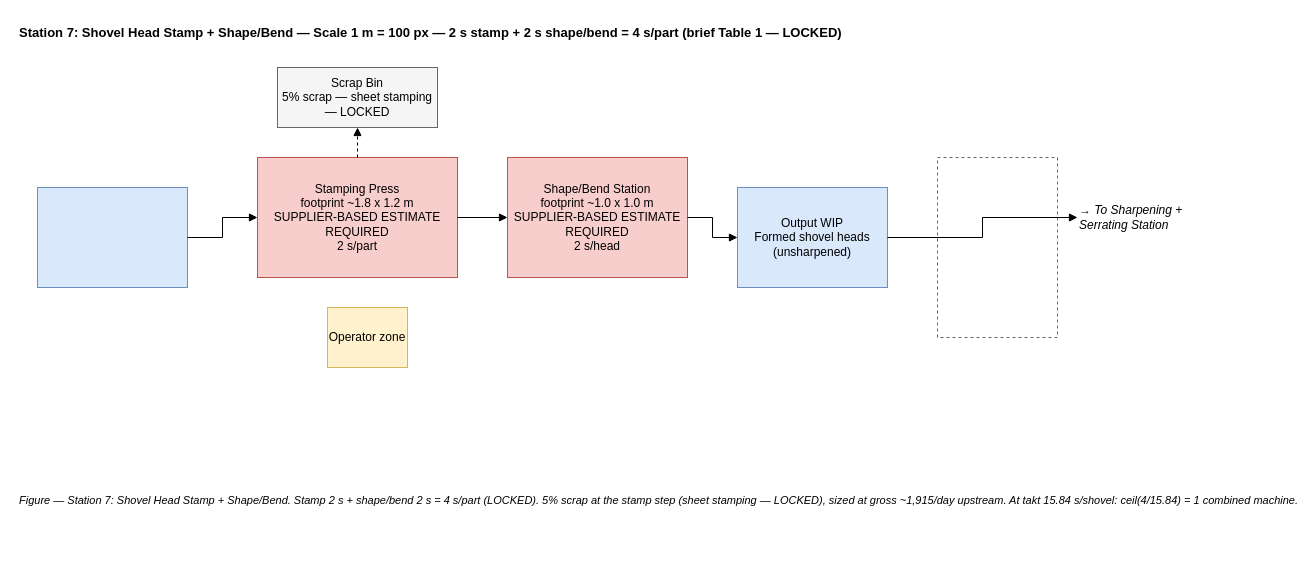
The diagram is 1315 pixels wide and 564 high, and some of its shapes have lost their labels. The shapes that lost their labels are listed below. From the top down, each one's centre as x and y in pixels, then its label:
[112,237]: Input WIP 2.5 mm sheet (from Sheet RM Racking)
[997,247]: Trolley Aisle 1.5 m
